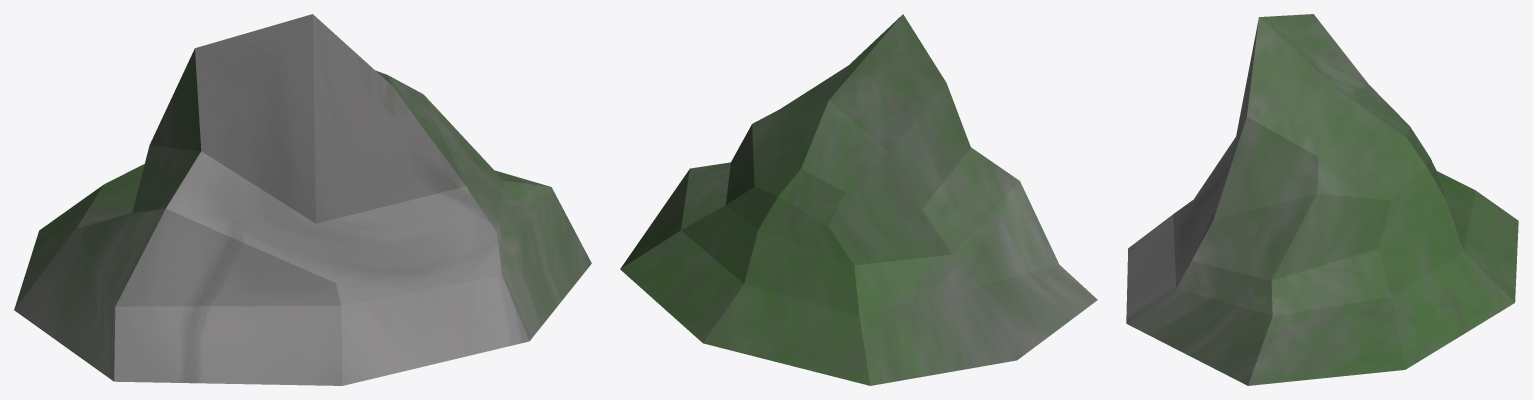
File: ARC0710065.fbx
The picture shows the model from 3 angles, left to right: view 1: azimuth 30°, elevation 25°; view 2: azimuth 150°, elevation 25°; view 3: azimuth 270°, elevation 25°; orthographic projection. The views are drawn at different scales.
Visible parts, largest first — view 1: smARC0710065; view 2: smARC0710065; view 3: smARC0710065.
Part boxes in pixels (<box>): smARC0710065: <box>14,14,591,385</box>; smARC0710065: <box>620,14,1097,385</box>; smARC0710065: <box>1126,14,1518,385</box>.
Bounding box in the file's own units: 106 × 64.31 × 88.51.
1 material, 1 textured.
